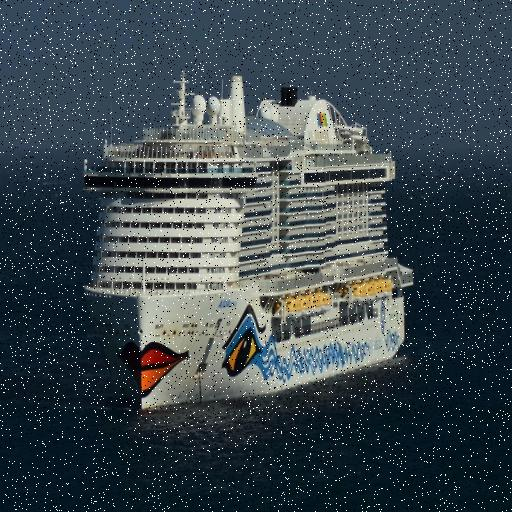cruises: (75, 67, 425, 420)
